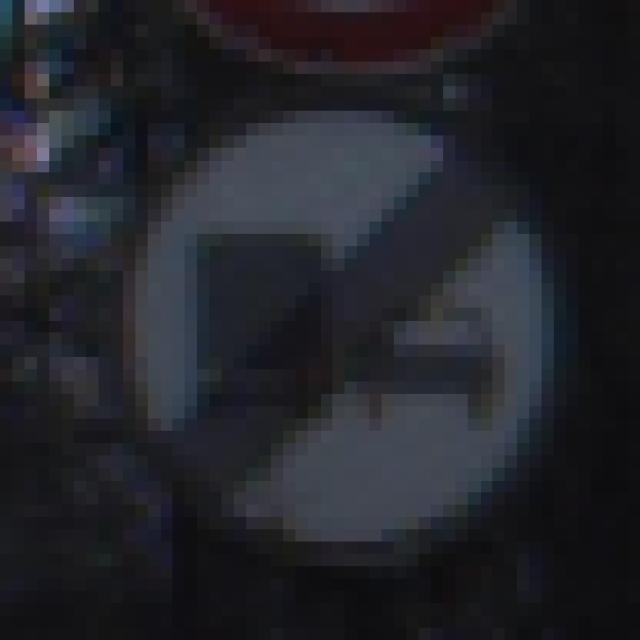Overtaking by trucks is prohibited: (62, 86, 603, 566)
